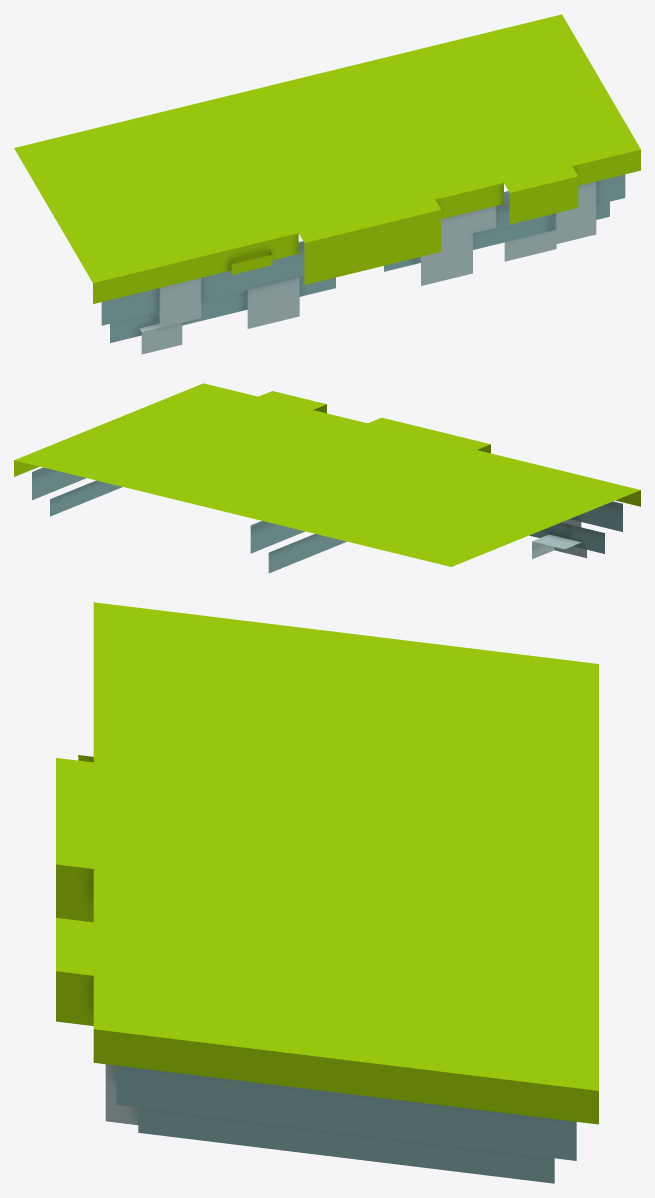
File: Field_Type_01_02.FBX
3 renders of one model, top to bottom at view 1: azimuth 30°, elevation 25°; view 2: azimuth 150°, elevation 25°; view 3: azimuth 270°, elevation 25°, orthographic. The views are drawn at different scales.
Visible parts, largest first — view 1: Field_Type_01_02; view 2: Field_Type_01_02; view 3: Field_Type_01_02.
Boxes of the visible parts, x1,y1,x2,y2 form: Field_Type_01_02: (14,14,640,354); Field_Type_01_02: (14,383,640,573); Field_Type_01_02: (56,602,598,1183).
Size of the model in its own units: 49.43 by 7.36 by 23.2.
